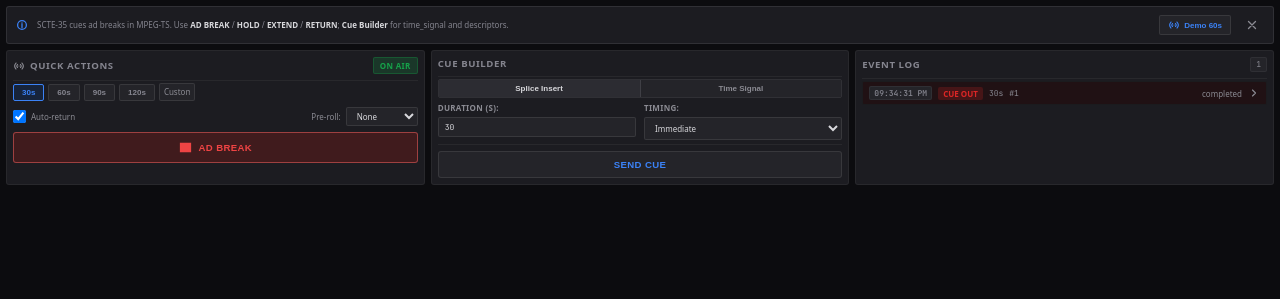
Test: SCTE35Panel › collapses inline event detail when same log row clicked again
The width and height of the screenshot is (1280, 299).
Click the button with class "log-row": (901, 93) x1=863 y1=82 x2=1266 y2=104
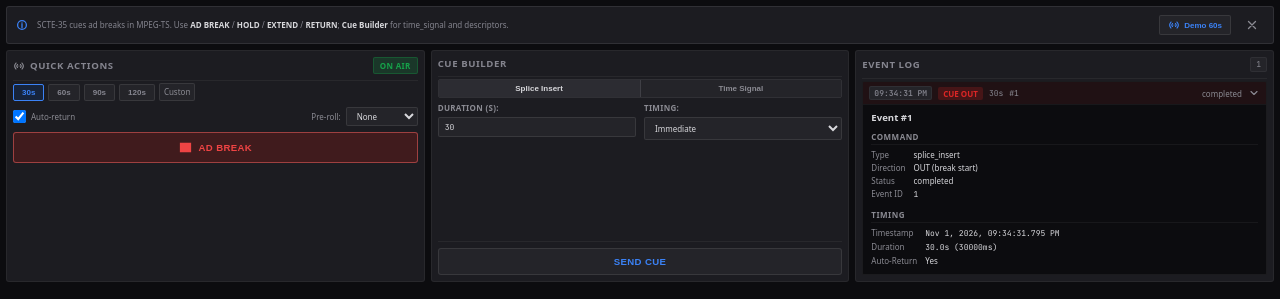
Now the element with class "log-detail" is shown, box x1=863 y1=104 x2=1266 y2=274
Click the button with class "log-row": (901, 93) x1=863 y1=82 x2=1266 y2=104
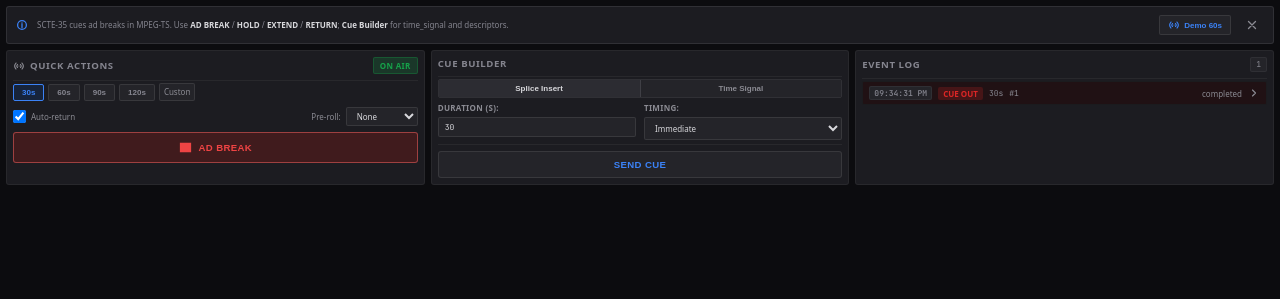
Now the element with class "log-detail" is gone
